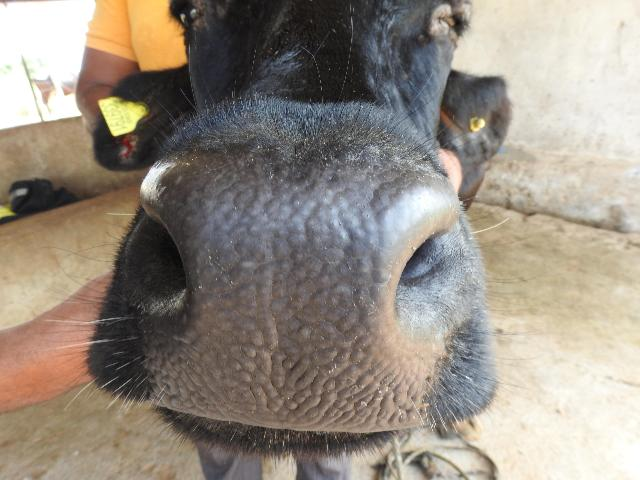Muzzle: (168, 161, 434, 430)
